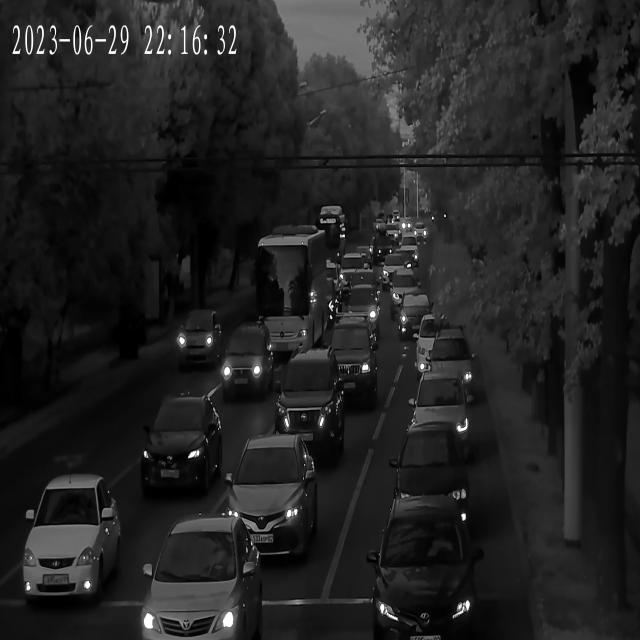Bus: (254, 230, 326, 326), (316, 206, 346, 248)
Car: (144, 516, 260, 640), (369, 510, 480, 638), (23, 478, 121, 610), (224, 434, 316, 559), (391, 422, 476, 541), (137, 396, 226, 495), (271, 351, 344, 459), (405, 373, 477, 460), (324, 322, 380, 404), (416, 334, 476, 401), (221, 326, 276, 399), (174, 312, 223, 372), (329, 287, 382, 336), (398, 294, 442, 342), (341, 271, 387, 314), (386, 270, 426, 311), (380, 255, 413, 288), (338, 256, 372, 285), (394, 241, 419, 266), (385, 227, 402, 244), (412, 226, 428, 242)
